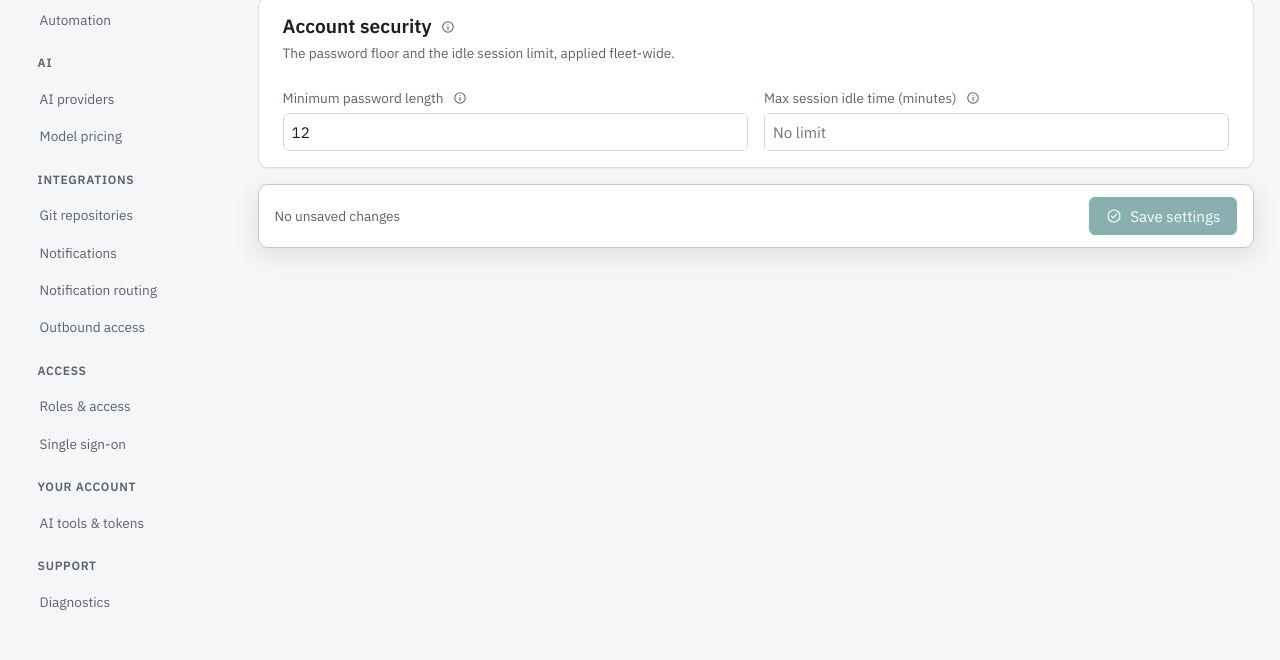
SettingsPage — every section is reachable by clicking › renders a nav entry for Diagnostics, and clicking it reaches the panel
(page scrolled)
Click the tab "Diagnostics" at {"x": 130, "y": 602}, box [26, 584, 234, 620]
(page scrolled)
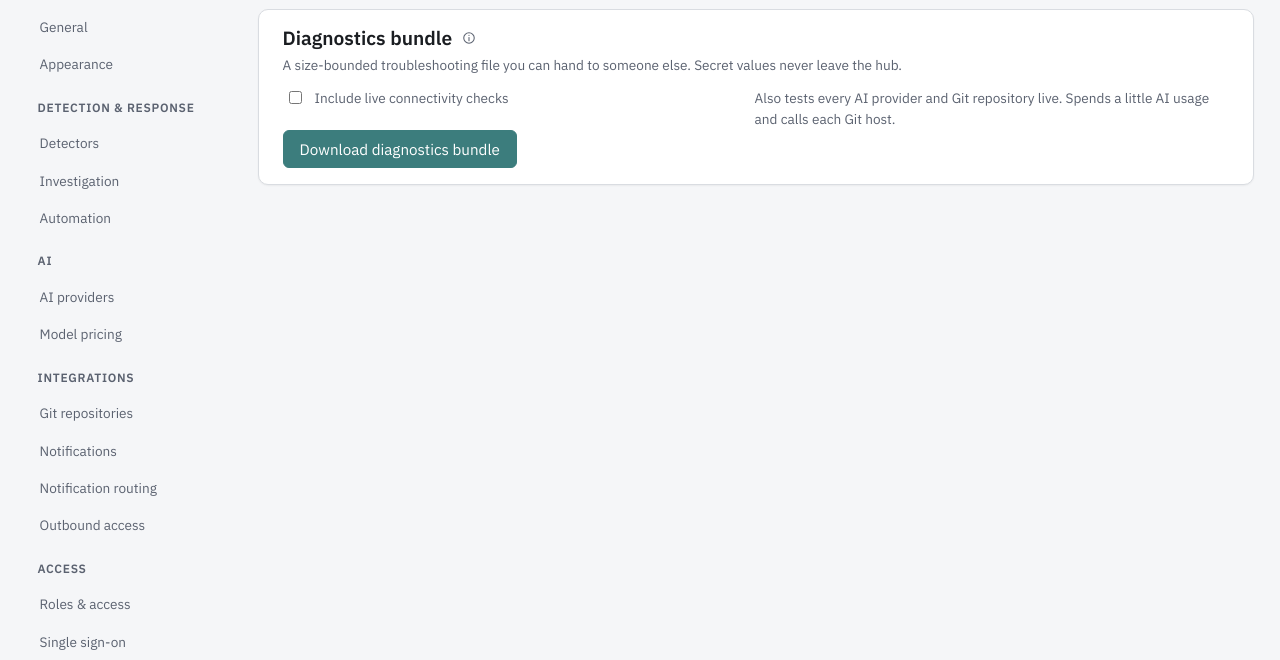
Result: the heading "Diagnostics bundle" is shown at [283, 26, 478, 51]
Result: the button "Download diagnostics bundle" is shown at [283, 130, 517, 168]
